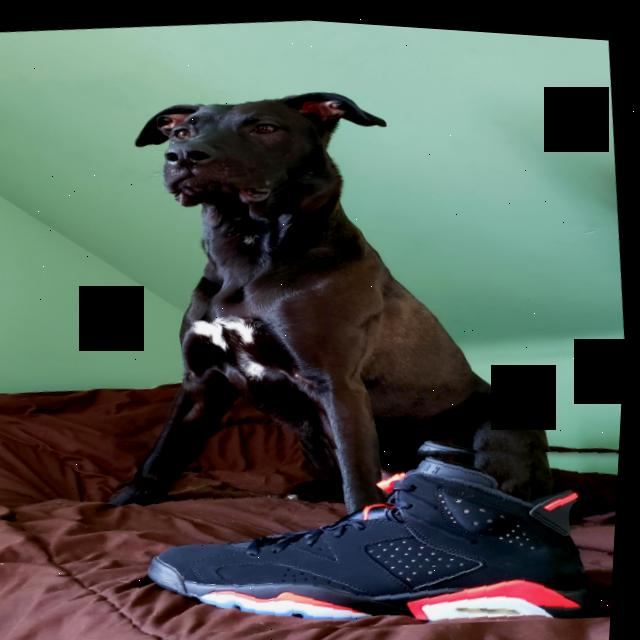shoe: (120, 391, 624, 640)
